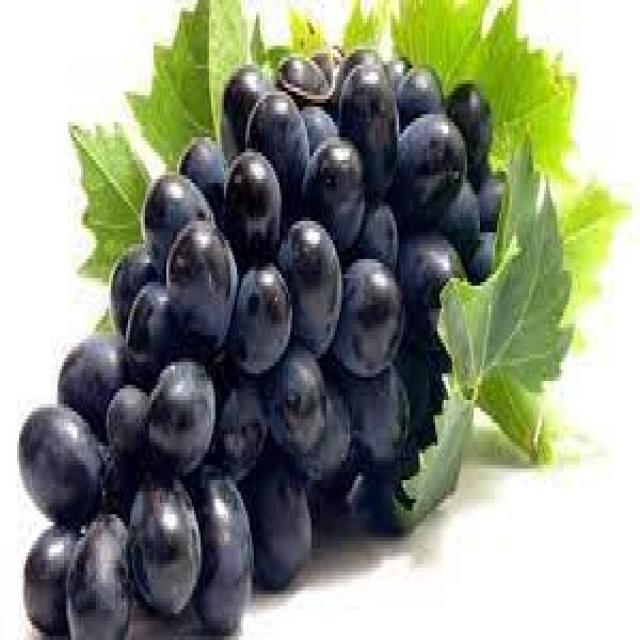grape: (15, 38, 510, 636)
